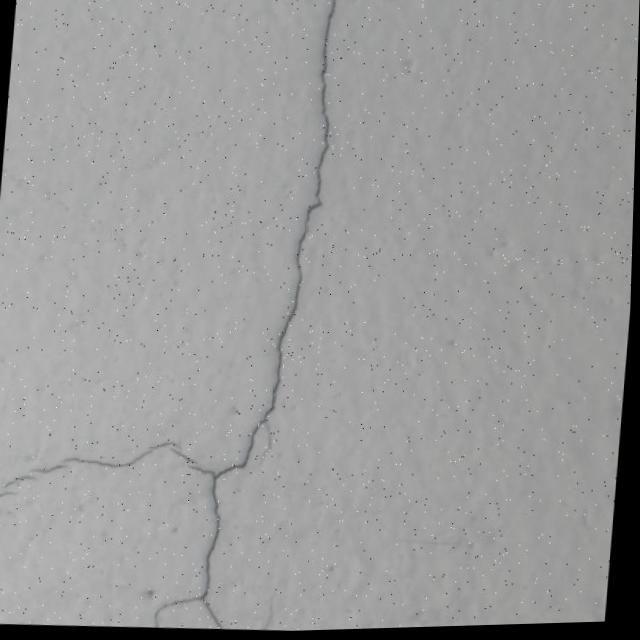Crack: (149, 0, 348, 632), (0, 425, 148, 540)
